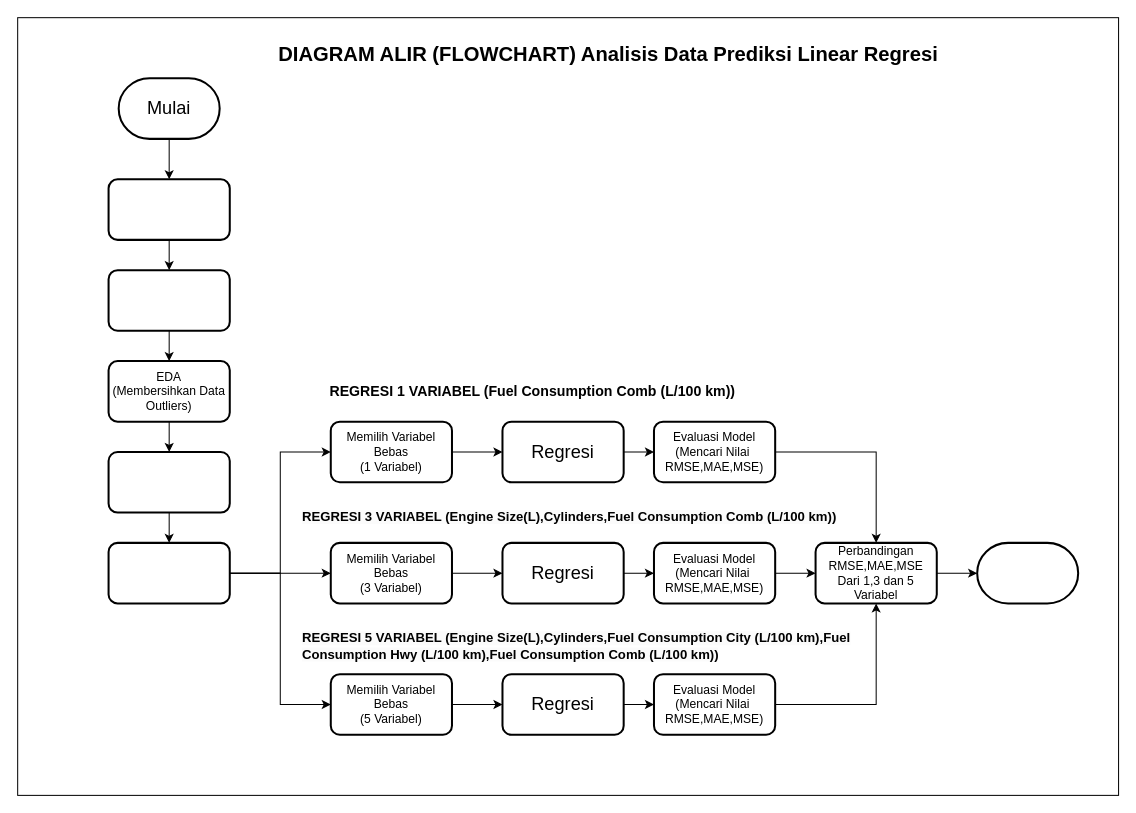
The diagram is 1136 pixels wide and 813 high, and some of its shapes have lost their labels. Each missing label, with the box of its shape:
Analisis Korelasi Antar Variabel Bebas Dan Variabel Target: (107, 541, 230, 604)
Data Preparation (Membersihkan Data NA (Null)): (107, 269, 230, 331)
Import Dataset: (107, 178, 230, 240)
Selesai: (976, 541, 1079, 604)
Visualisasi Data (Melihat Kondisi dan Distribusi Data): (107, 450, 230, 513)
